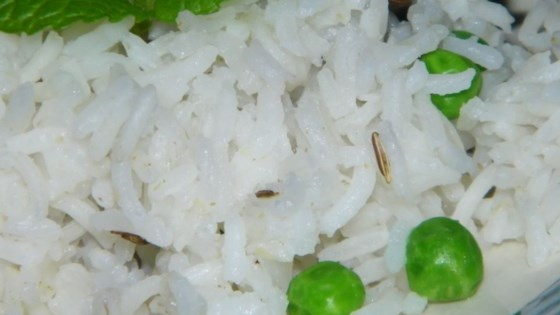plain rice: (5, 36, 552, 305)
